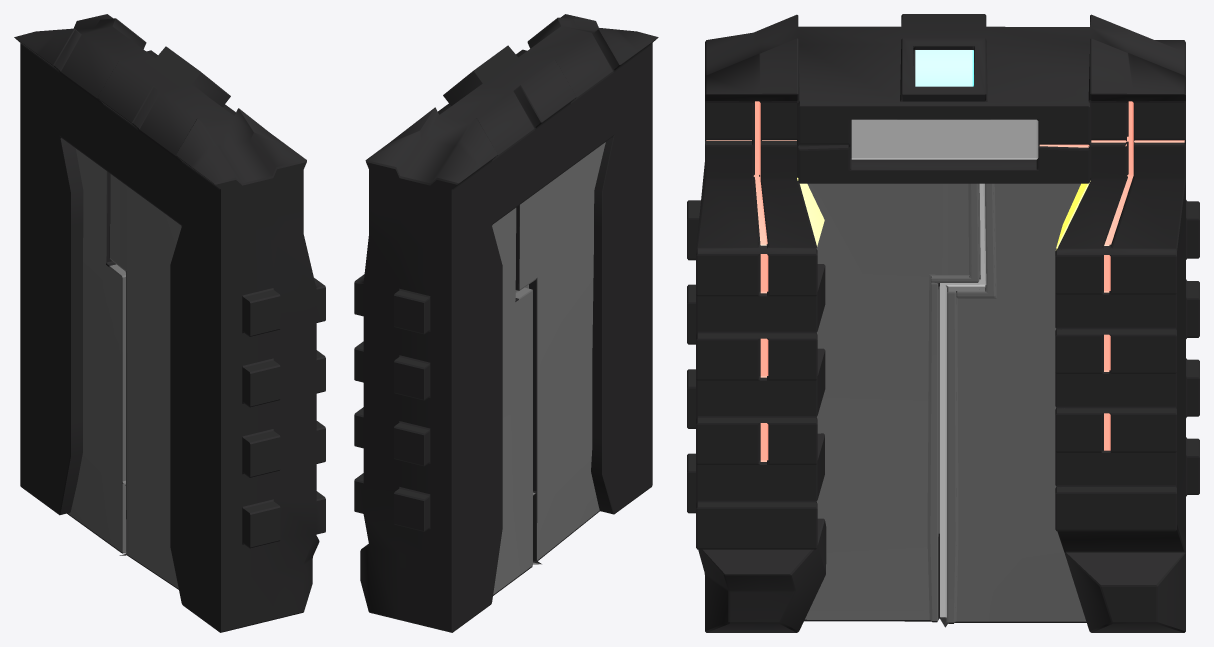
File: door (1).fbx
3 renders of one model, left to right at view 1: azimuth 30°, elevation 25°; view 2: azimuth 150°, elevation 25°; view 3: azimuth 270°, elevation 25°, orthographic. The views are drawn at different scales.
Parts seen in each view (by area): view 1: Cube; view 2: Cube; view 3: Cube.
Part boxes in pixels (x1,y1,x2,y2): Cube: [14, 14, 325, 632]; Cube: [354, 14, 658, 632]; Cube: [687, 14, 1199, 632].
Size of the model in its own units: 189 by 780 by 618.
